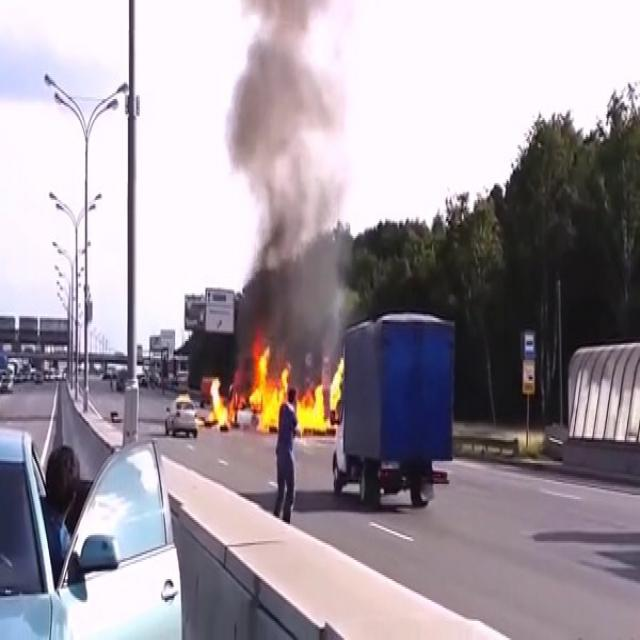fire: (207, 347, 330, 438)
